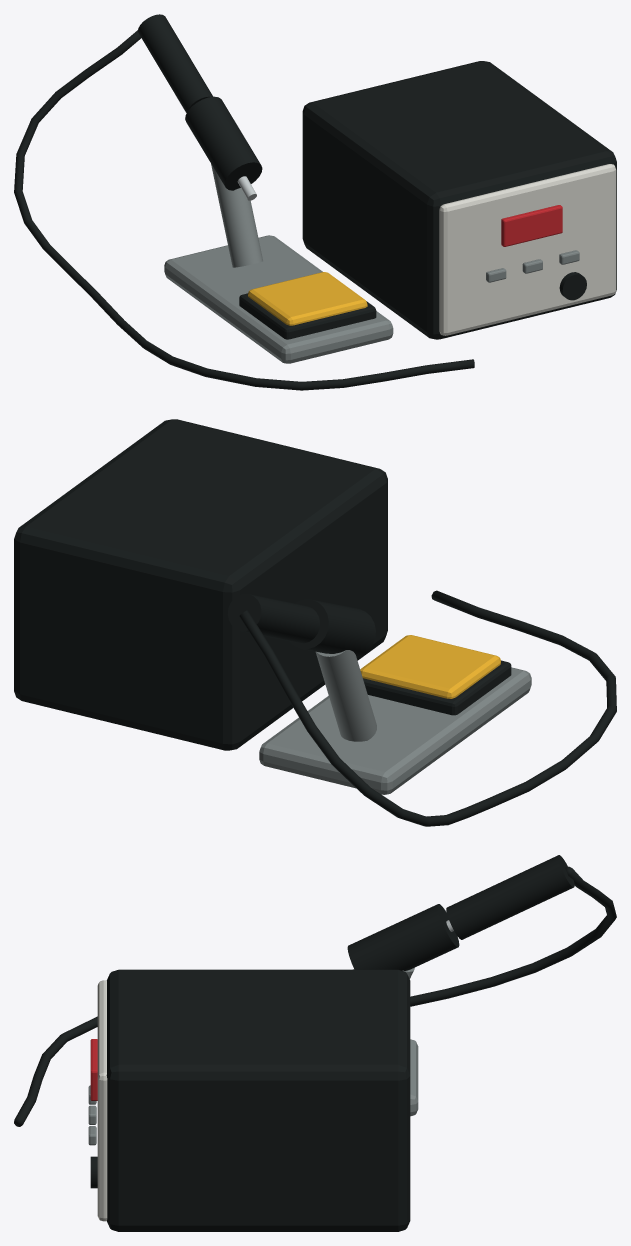
3 renders of one model, top to bottom at view 1: azimuth 30°, elevation 25°; view 2: azimuth 150°, elevation 25°; view 3: azimuth 270°, elevation 25°, orthographic. The views are drawn at different scales.
Parts seen in each view (by area): view 1: Controller black enclosure, Pale controller fascia, Small controller key, Yellow cleaning sponge, Unlit red display window; view 2: Controller black enclosure, Small controller key, Yellow cleaning sponge; view 3: Controller black enclosure, Pale controller fascia, Small controller key.
Part boxes in pixels (x1,y1,x2,y2): Controller black enclosure: [14, 14, 616, 390]; Pale controller fascia: [439, 164, 616, 335]; Small controller key: [164, 164, 579, 363]; Yellow cleaning sponge: [248, 272, 367, 325]; Unlit red display window: [501, 205, 562, 246]; Controller black enclosure: [14, 419, 616, 826]; Small controller key: [259, 650, 531, 794]; Yellow cleaning sponge: [360, 635, 500, 698]; Controller black enclosure: [14, 855, 616, 1231]; Pale controller fascia: [97, 980, 107, 1221]; Small controller key: [88, 968, 418, 1145].
Size of the model in its own units: 0.2679 by 0.1296 by 0.3015.
